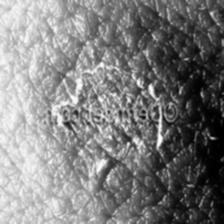Non-Cancerous Skin Condition: (20, 0, 224, 102), (0, 133, 224, 224)
